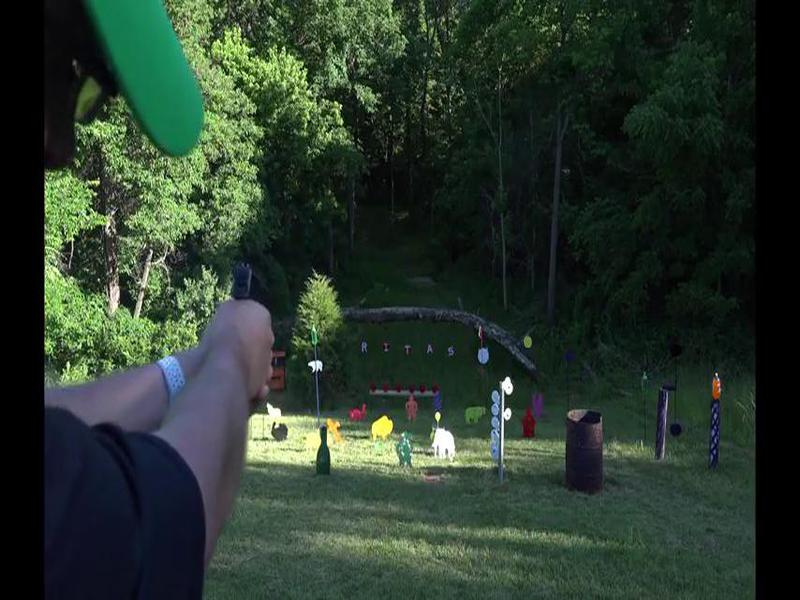Pistola: (229, 259, 291, 315)
